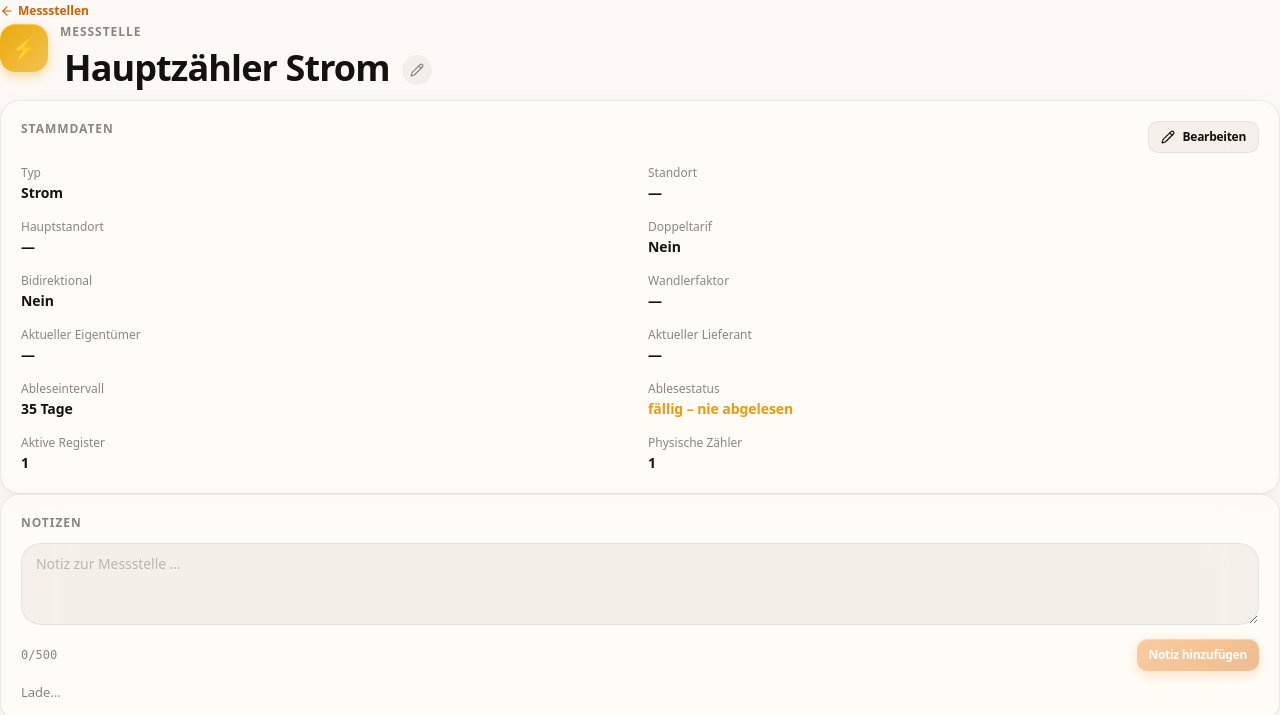
Test: MeasuringPointDetailPage Stammdaten-Card › öffnet das Edit-Formular bei Klick auf "Bearbeiten"
Click the button "Bearbeiten". click: (1203, 137)
box: [1148, 121, 1259, 153]
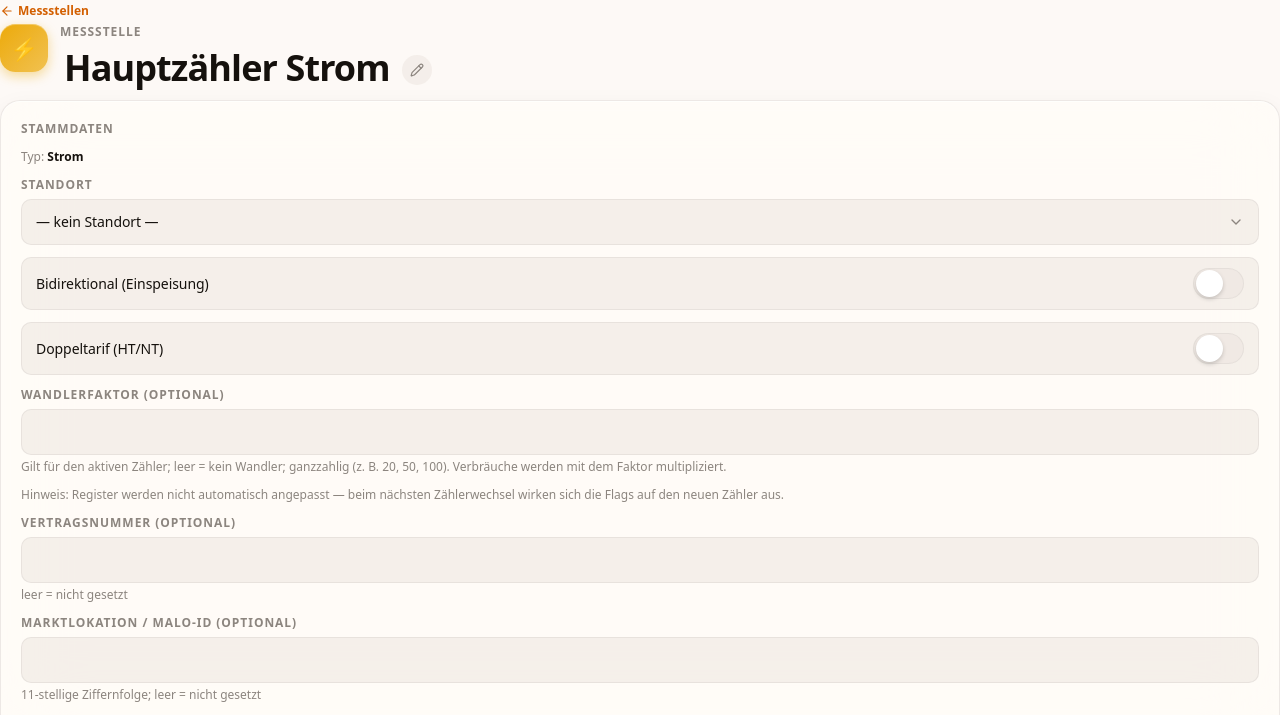
Now the dropdown labelled "Standort" is shown, box [36, 200, 1240, 244]
Now the field labelled "Wandlerfaktor" is shown, box [36, 410, 1244, 454]
